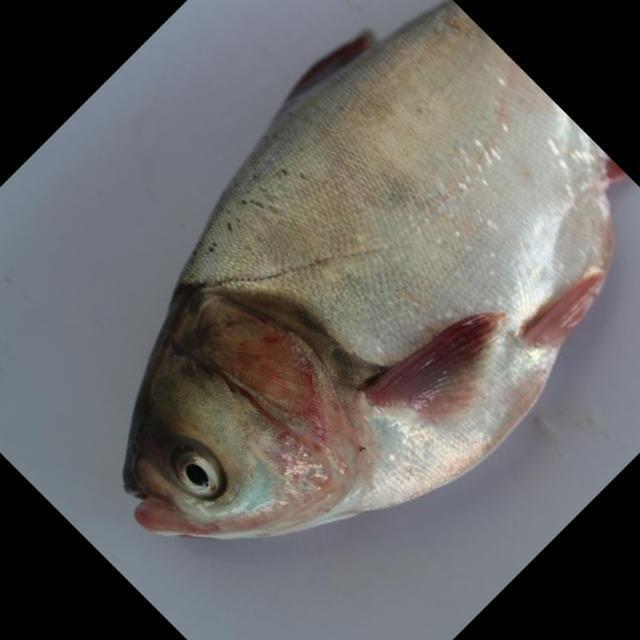SilverCarp: (131, 15, 630, 546)
